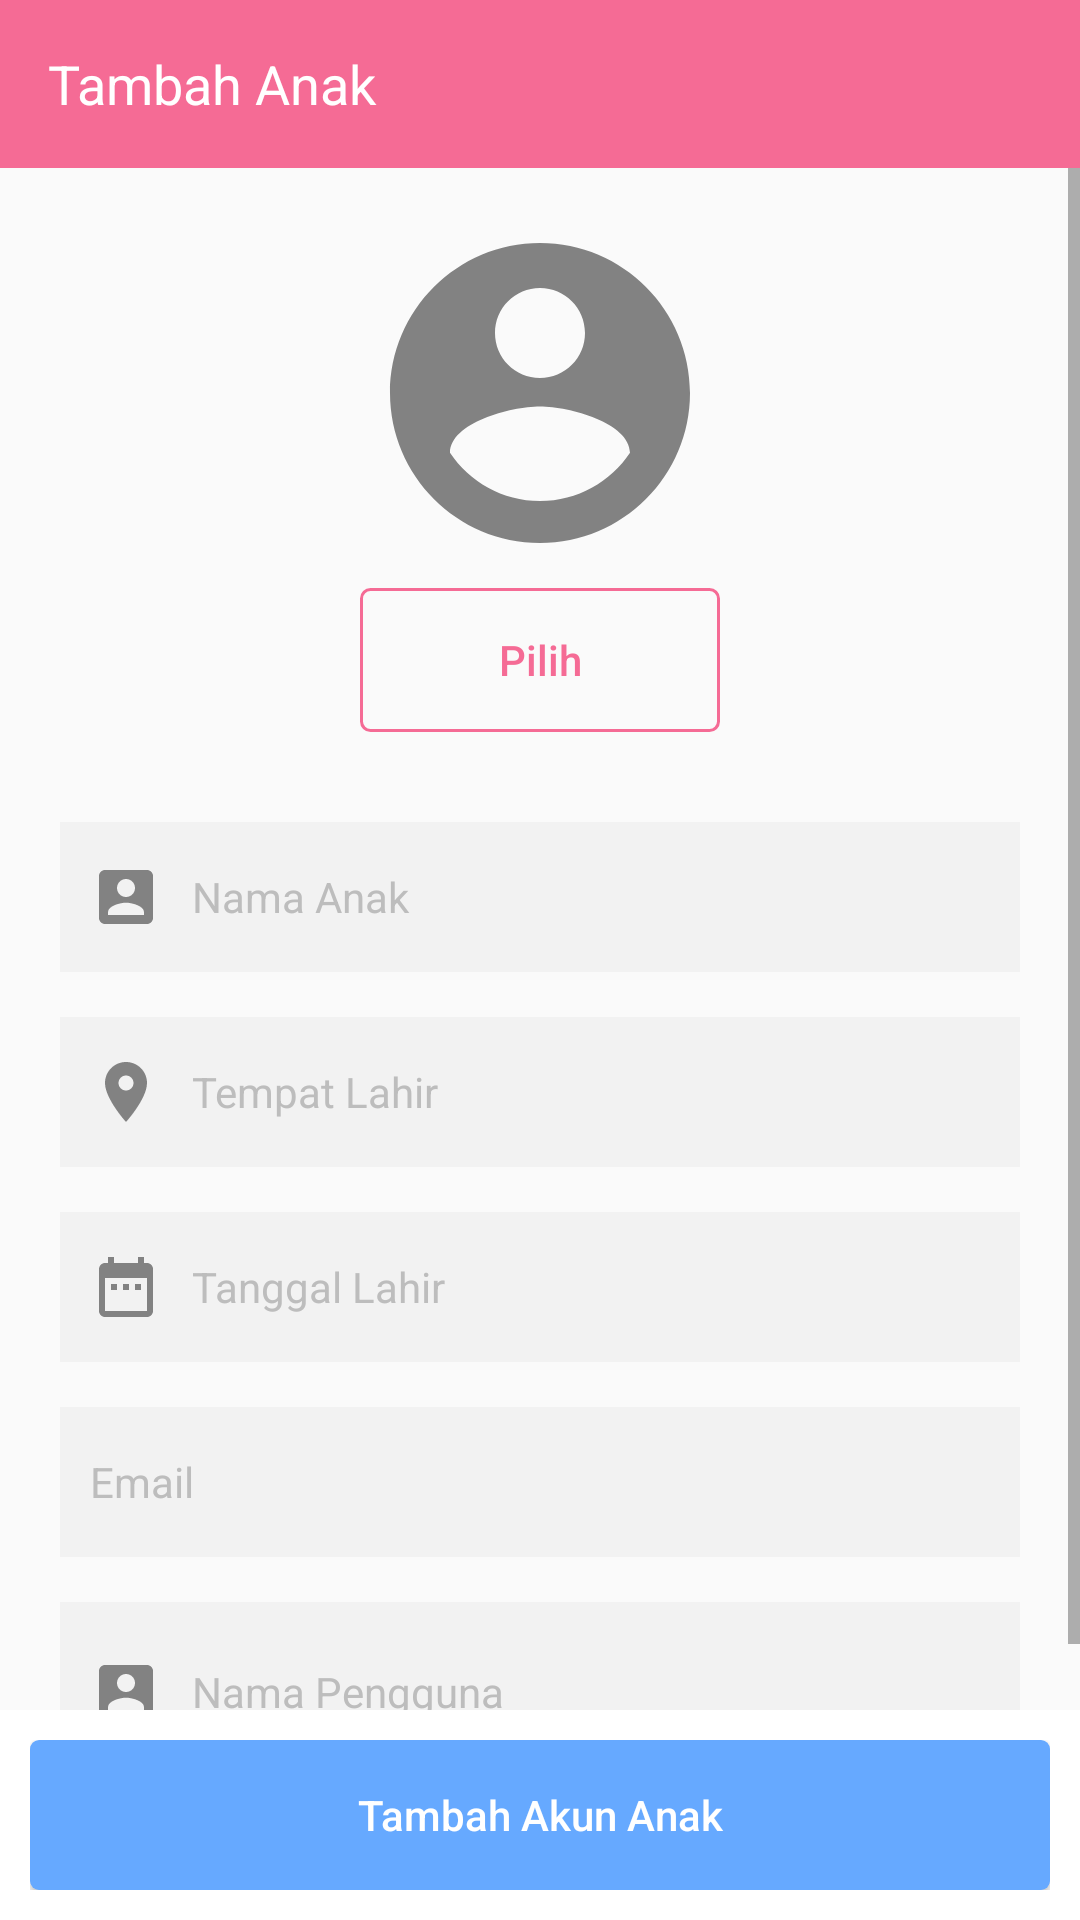

Where to tap for icons on this 1080w x 1920h app screen, as [x,y]:
account circle: [540,393]
